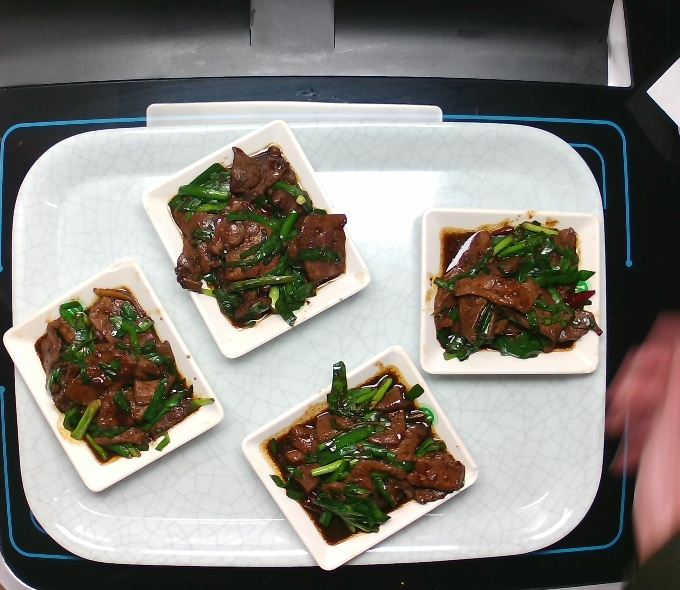wcq-ZhuGan: (156, 143, 355, 338), (268, 366, 467, 551), (30, 280, 200, 465), (417, 212, 605, 366)
